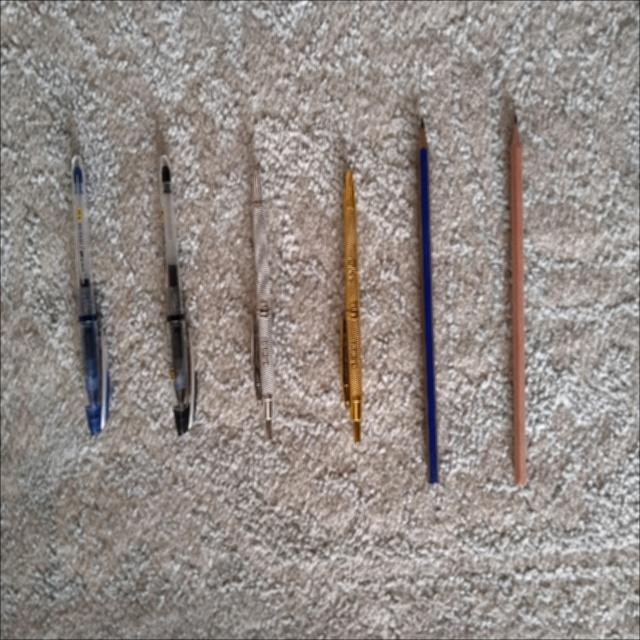pen: (160, 156, 197, 435), (72, 156, 109, 434)
pencil: (419, 120, 437, 483), (510, 117, 525, 485)
signature pen: (251, 167, 275, 439), (340, 170, 362, 442)
